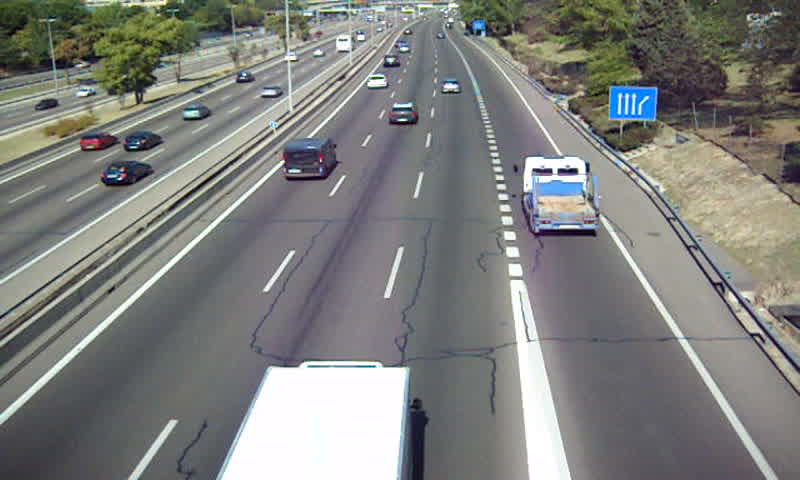car: (389, 102, 416, 125), (364, 74, 387, 90), (441, 79, 462, 96), (382, 53, 401, 68)
small-truck: (213, 360, 411, 480), (523, 155, 600, 233)
van: (281, 138, 338, 181)
